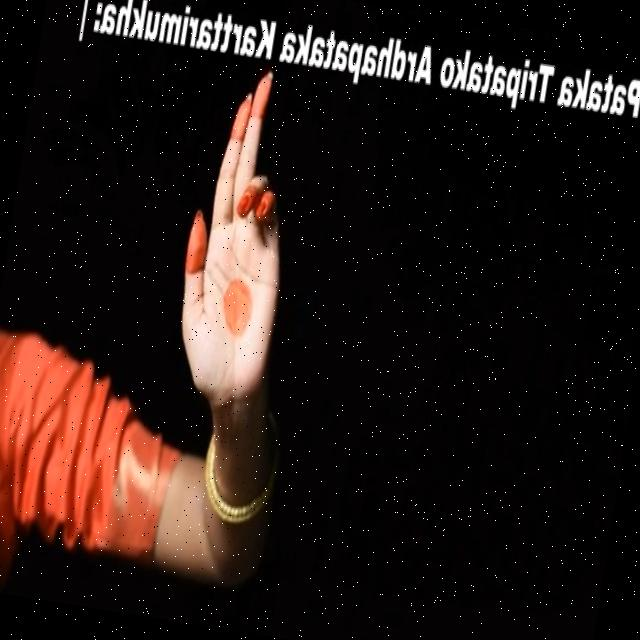Ardhapataka: (146, 59, 327, 426)
bangle: (182, 426, 290, 536)
text: (68, 0, 640, 145)
